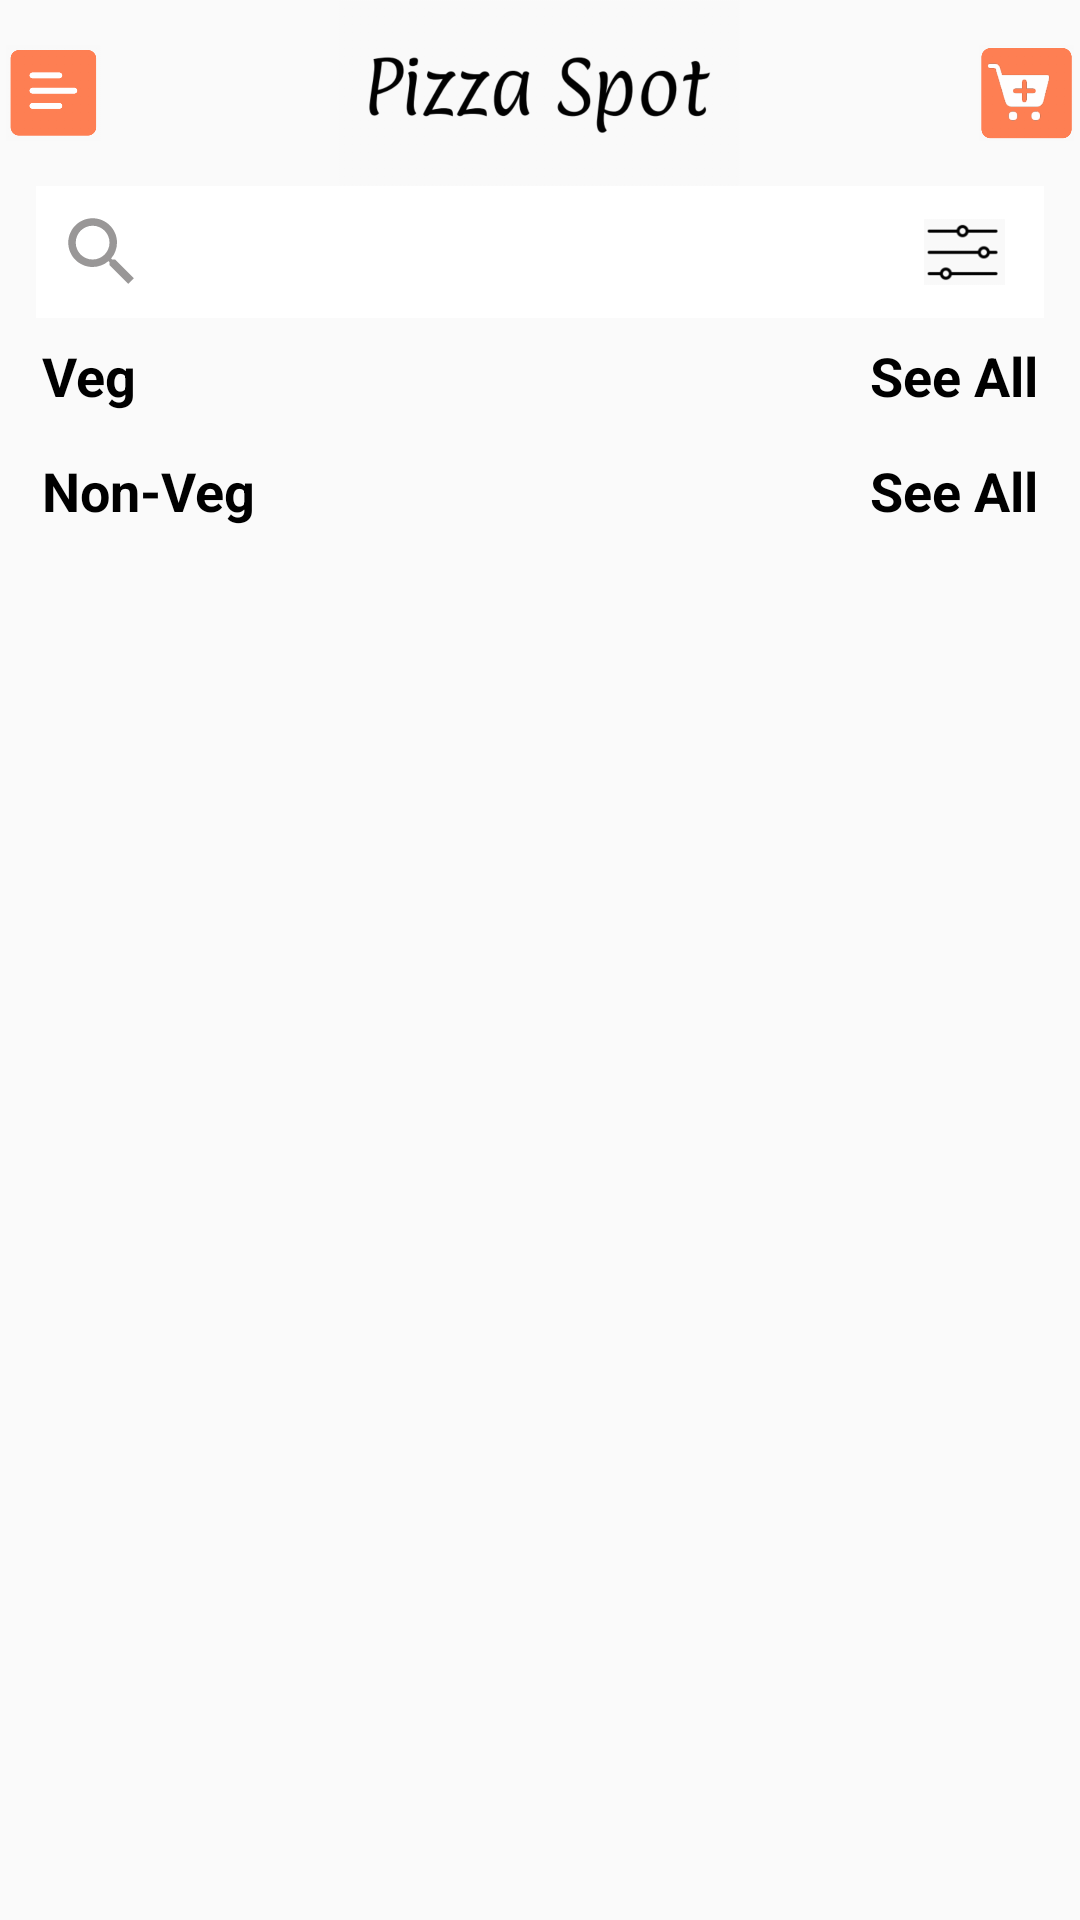

Icon click points for this 1080 × 1920 phone screenshot, format (x=x, y=y):
carticon: (x=1026, y=93)
filter: (x=962, y=252)
sidemenu: (x=53, y=93)
